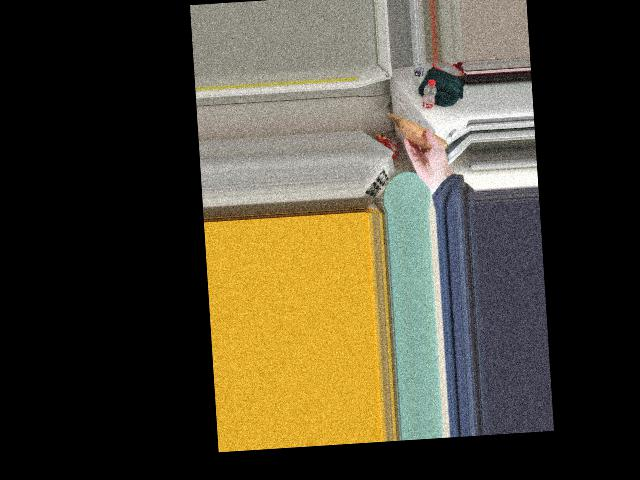sweet_potato: (408, 123, 446, 157)
